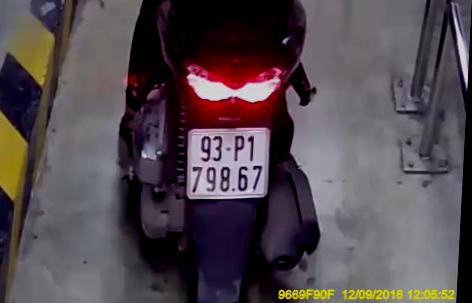License_Plate: (176, 120, 279, 211)
